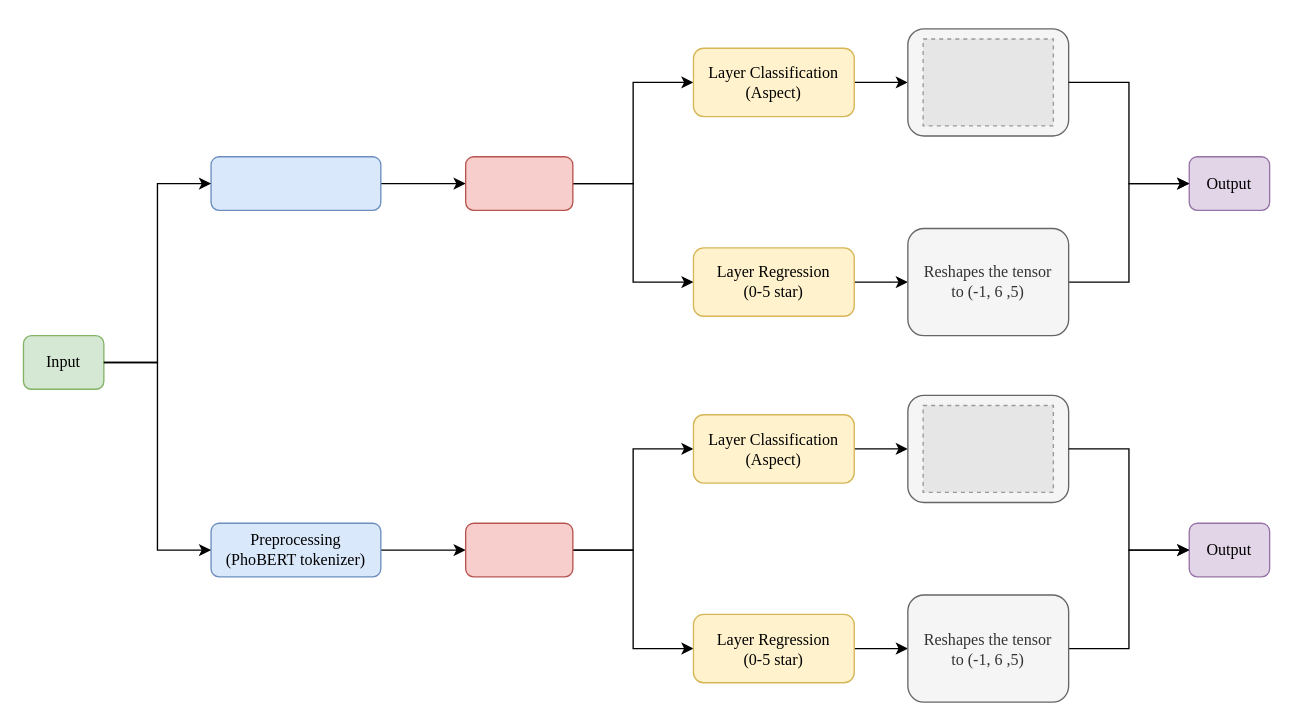
This 1293x726 diagram has some shape labels left out. Grey dashed boxes stand in for pictures. The box of each missing label's shape, as (x1, y1, x2, y2) in pixels:
PhoBERT: (464, 522, 573, 577)
Preprocessing (XLM tokenizer): (210, 155, 381, 210)
XLM: (464, 155, 573, 210)
